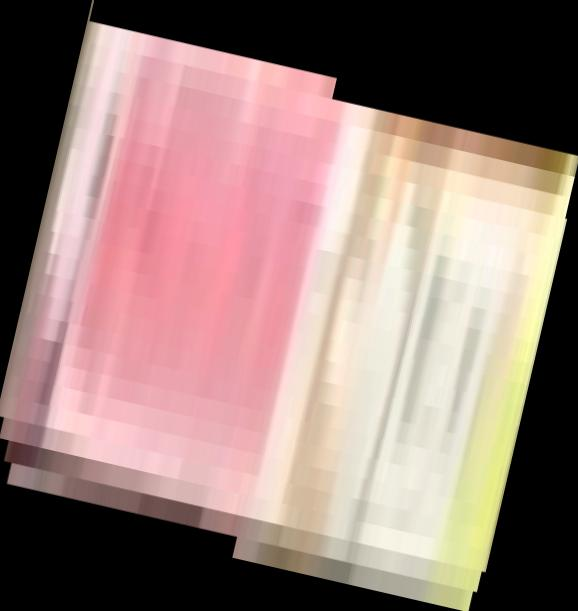flat: (1, 1, 578, 611)
